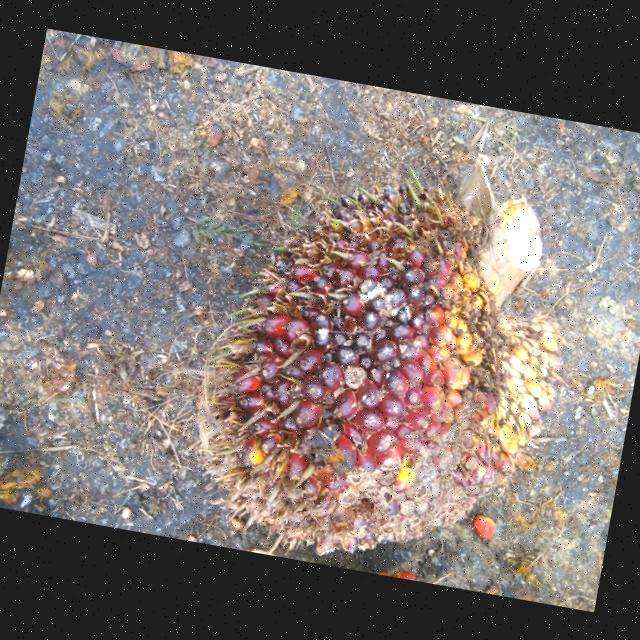Ripe: (218, 184, 580, 543)
